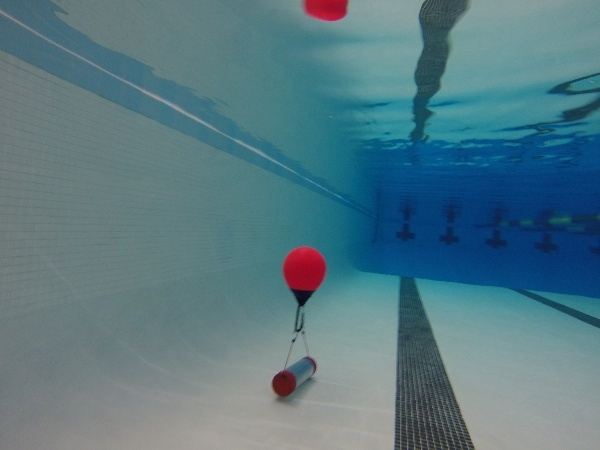buoy_red: (278, 242, 329, 314)
